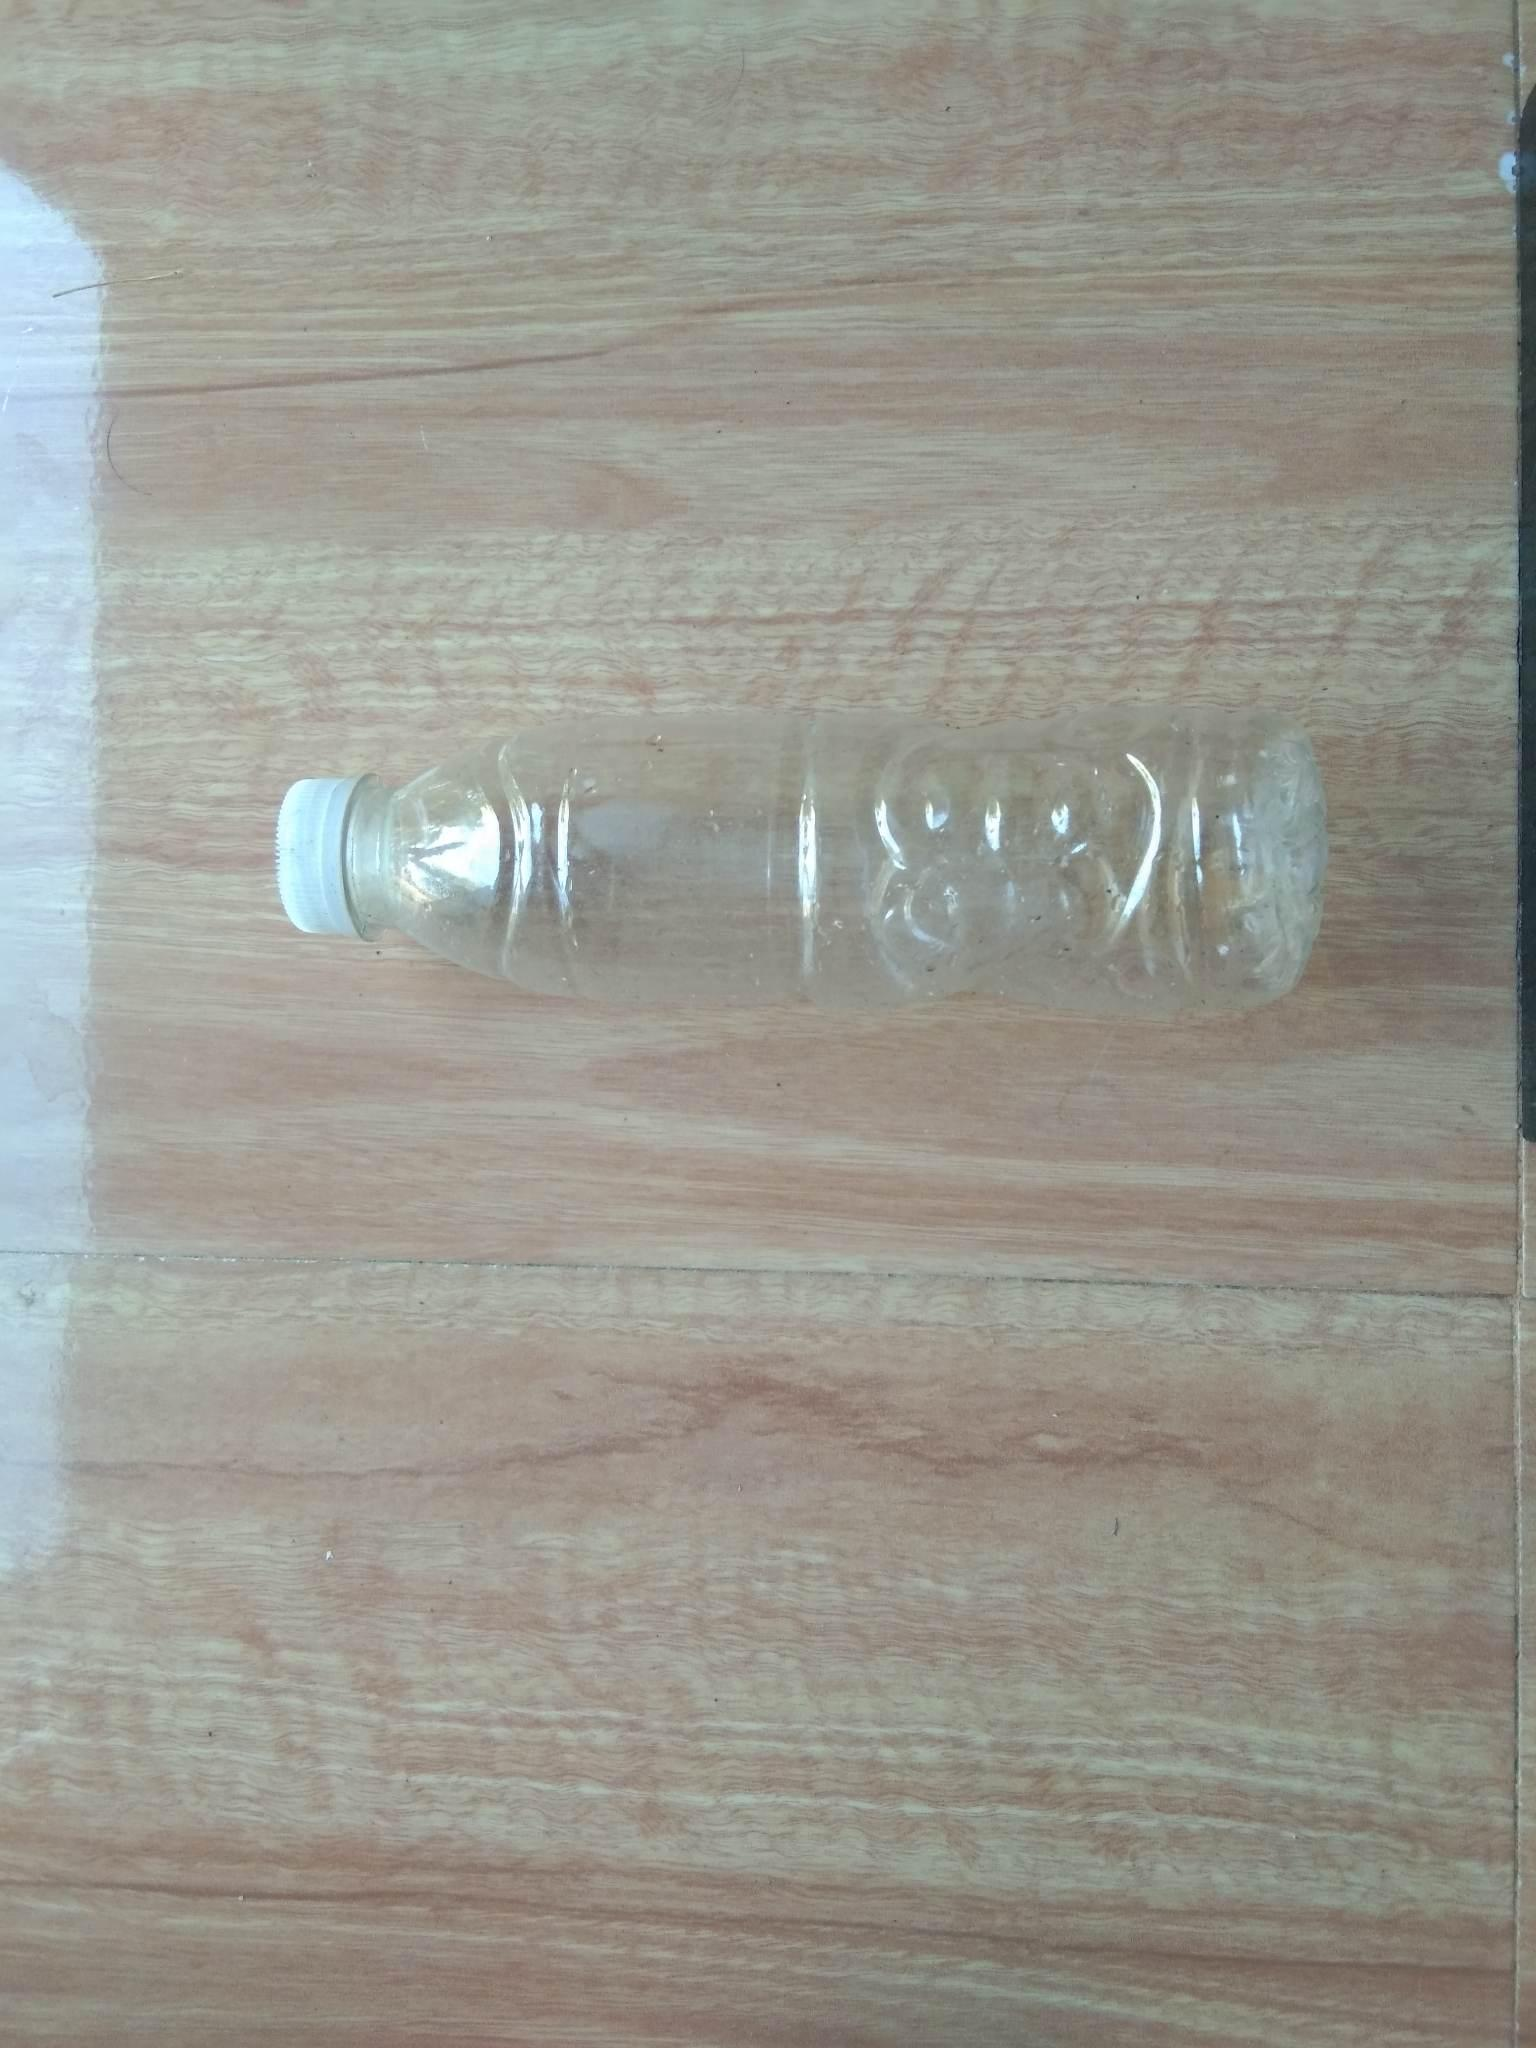plastic: (168, 703, 1397, 1084)
